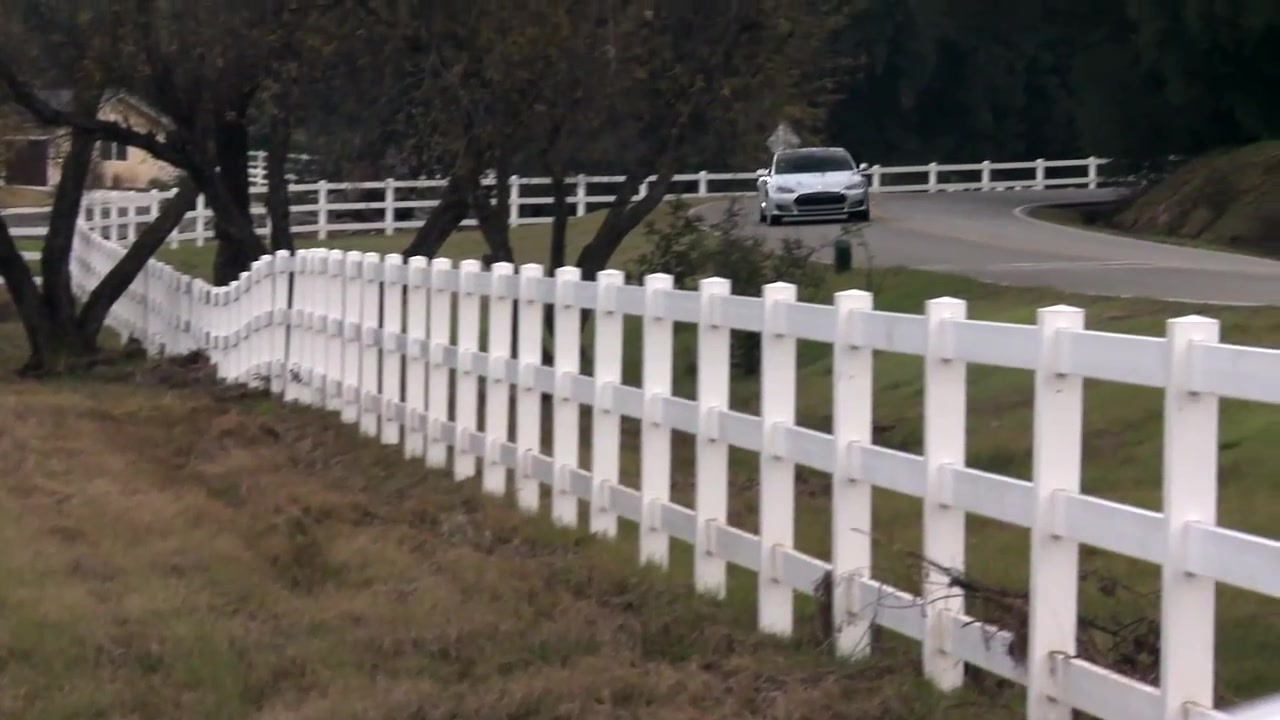car: (751, 149, 877, 226)
